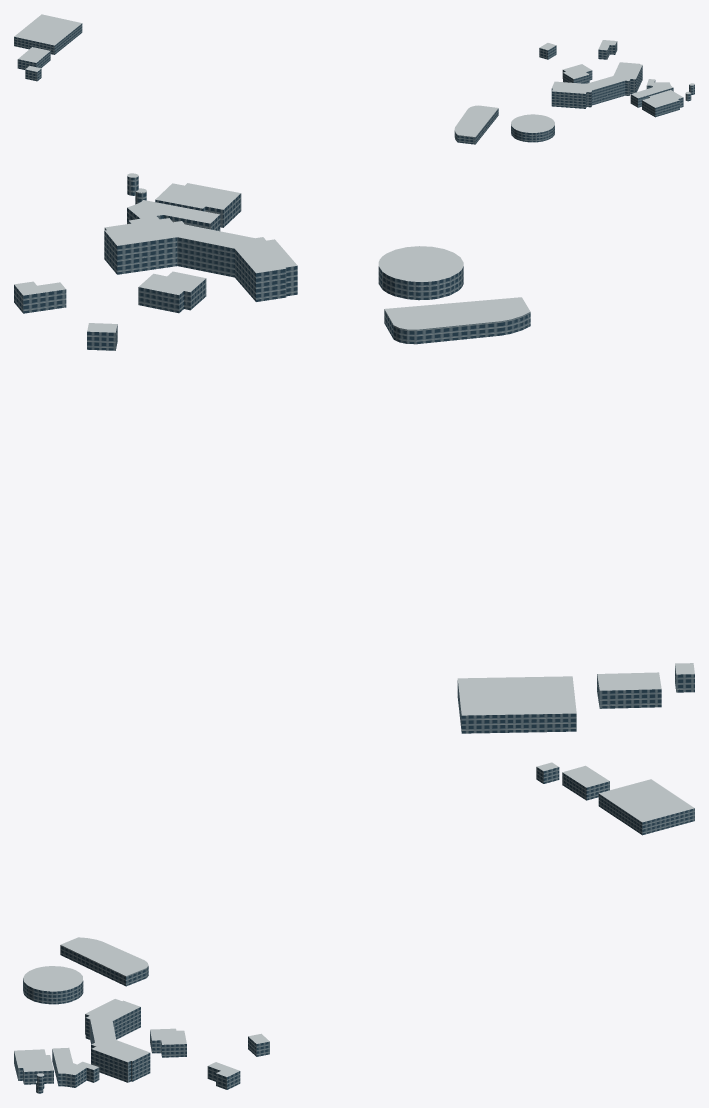
The picture shows the model from 3 angles, top to bottom: view 1: azimuth 30°, elevation 25°; view 2: azimuth 150°, elevation 25°; view 3: azimuth 270°, elevation 25°; orthographic projection. The views are drawn at different scales.
Size of the model in its own units: 645 by 19.35 by 578.
2 materials, 1 textured.
